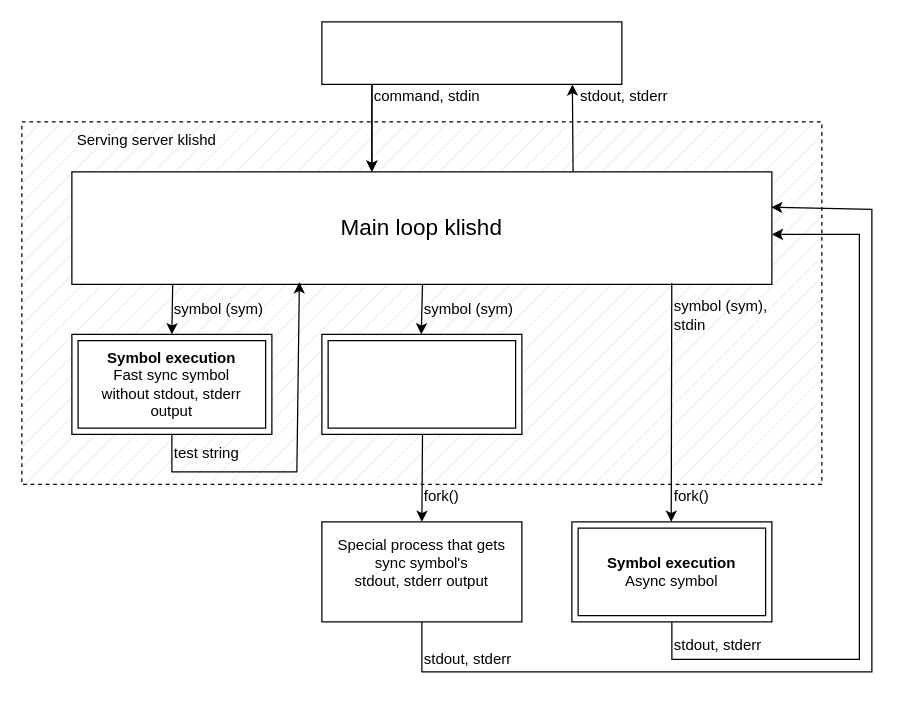
Image size: 904x704. Some labels were removed from this diagram. The shapes that lost their labels are listed below. From the top down, each one's box as (x1, y1, x2, y2) in pixels, then its label:
(321, 21, 622, 84): Client klish
(321, 333, 522, 434): Symbol execution Sync symbol with stdout, stderr output
